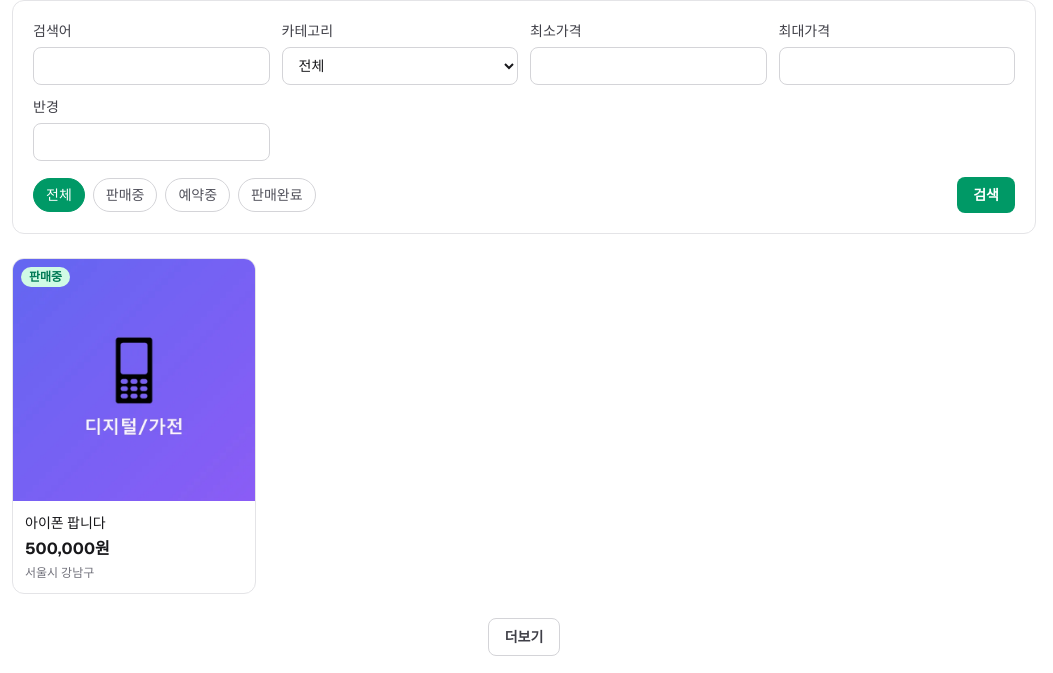
Scenario: ProductList › shows 더보기 when nextCursor is present, and requests the next page with cursor on click
This screenshot has width=1053, height=673.
Click the button "더보기" at (524,637), box [488,618,560,656]
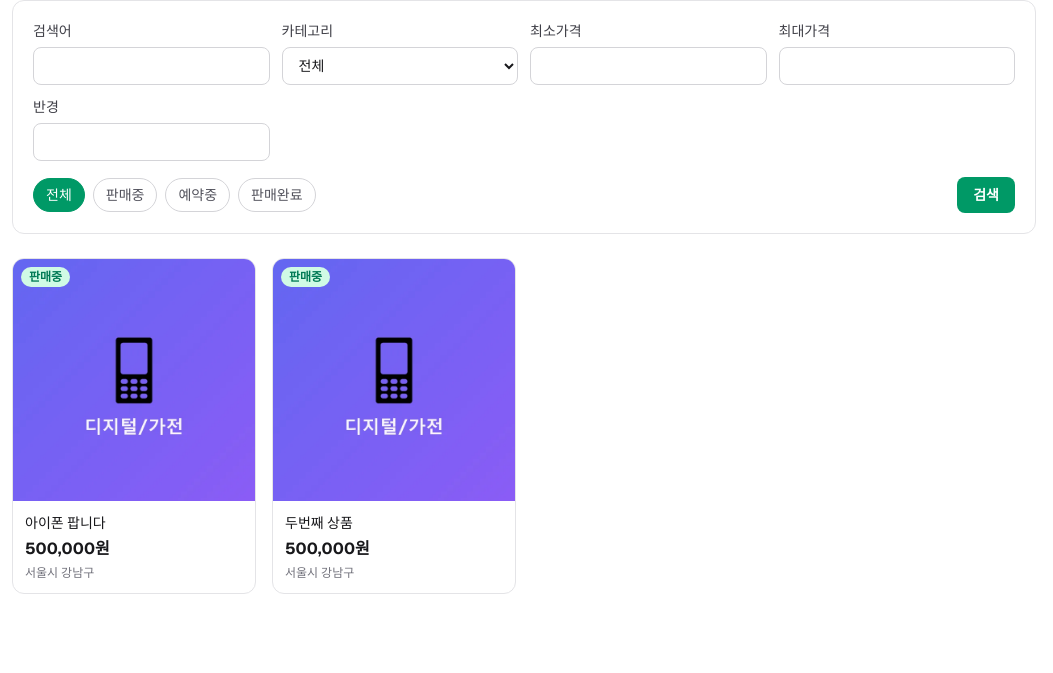
Check: the text "아이폰 팝니다" is shown, box [25,514,106,532]
Check: the text "두번째 상품" is shown, box [285,514,353,532]
Check: the button "더보기" is gone
